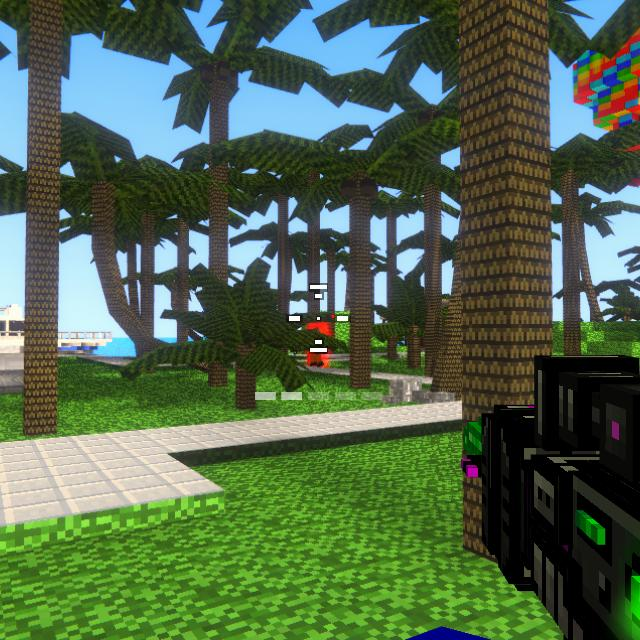Enemy: (307, 328, 329, 369)
